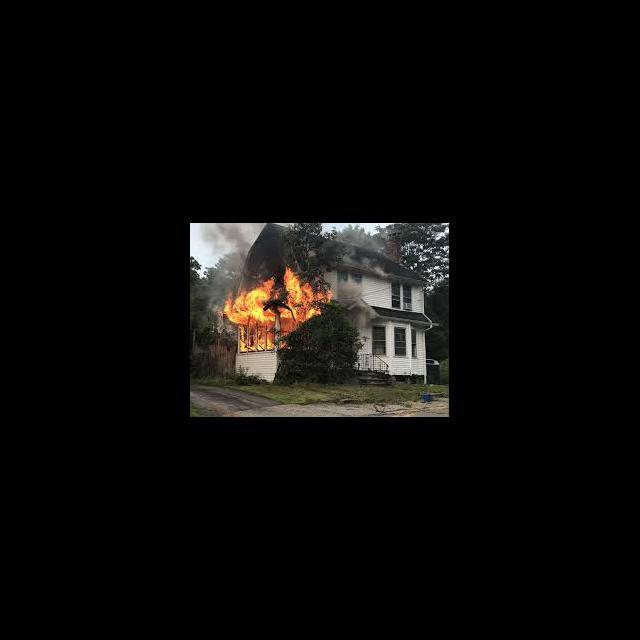Fire: (224, 267, 334, 323), (248, 323, 258, 352), (266, 322, 275, 351), (280, 321, 289, 348), (258, 322, 266, 352), (290, 313, 302, 332), (239, 326, 247, 352)
Smoke: (342, 228, 389, 275), (338, 276, 377, 325), (201, 226, 248, 265), (203, 270, 223, 313)
